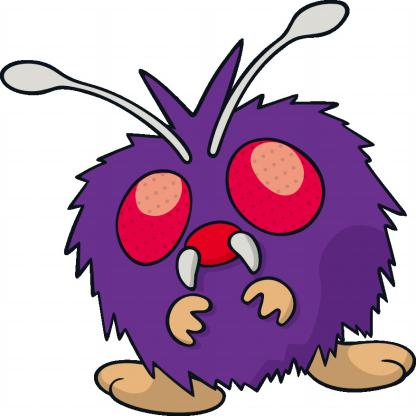Venonat: (1, 13, 416, 408)
